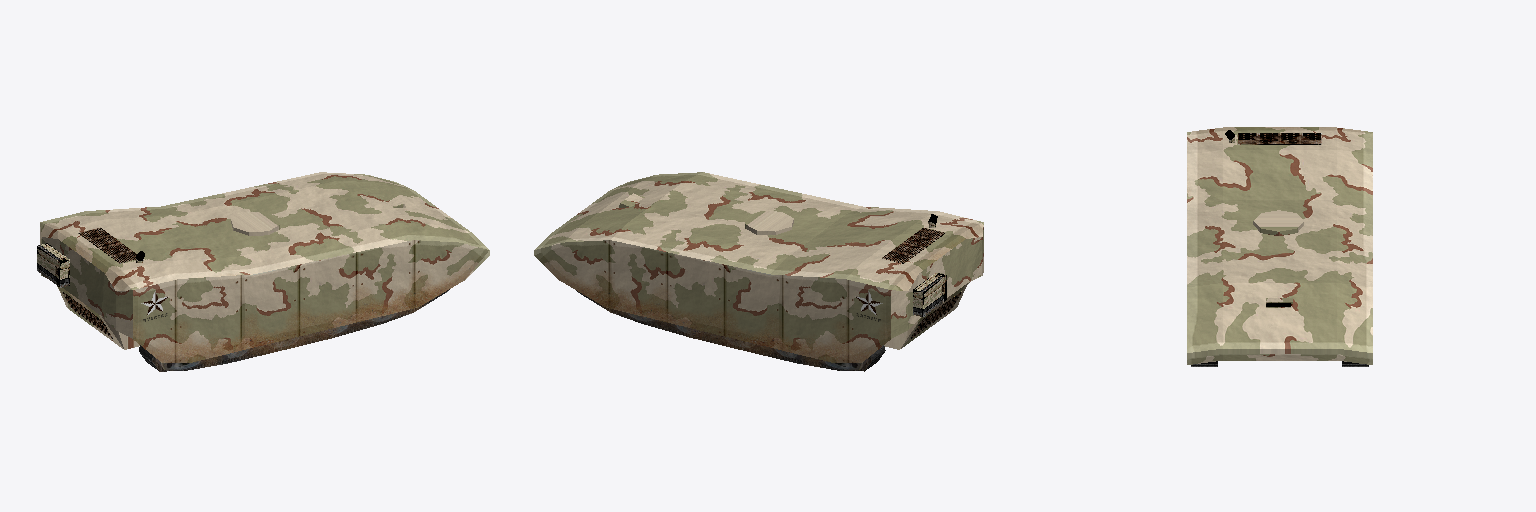
3 views of the same model, side by side, from view 1: azimuth 30°, elevation 25°; view 2: azimuth 150°, elevation 25°; view 3: azimuth 270°, elevation 25° (orthographic).
Visible parts, largest first — view 1: pealmine, k�ljed, tagaosa, Regroup02, Box05, Cylinder07, Duplicate11, p�hi; view 2: pealmine, k�ljed, tagaosa, Regroup02, Box05, Cylinder07, Duplicate11, p�hi; view 3: pealmine, p�hi, Cylinder07, Duplicate11.
Part boxes in pixels (left/top/right/bottom): pealmine: left=40, top=172, right=488, bottom=290; k�ljed: left=133, top=240, right=488, bottom=362; tagaosa: left=40, top=227, right=132, bottom=338; Regroup02: left=139, top=289, right=449, bottom=371; Box05: left=37, top=243, right=69, bottom=287; Cylinder07: left=231, top=211, right=279, bottom=235; Duplicate11: left=78, top=227, right=136, bottom=263; p�hi: left=57, top=250, right=489, bottom=349; pealmine: left=534, top=172, right=983, bottom=290; k�ljed: left=535, top=240, right=890, bottom=362; tagaosa: left=891, top=227, right=983, bottom=338; Regroup02: left=576, top=290, right=885, bottom=371; Box05: left=913, top=273, right=946, bottom=316; Cylinder07: left=745, top=211, right=793, bottom=234; Duplicate11: left=882, top=228, right=945, bottom=263; p�hi: left=884, top=282, right=969, bottom=349; pealmine: left=1187, top=127, right=1372, bottom=358; p�hi: left=1187, top=354, right=1372, bottom=364; Cylinder07: left=1253, top=210, right=1303, bottom=235; Duplicate11: left=1238, top=133, right=1321, bottom=144.
Bounding box in the file's own units: 45.84 × 13.45 × 19.68.
Materials: 1 (1 with a texture image).